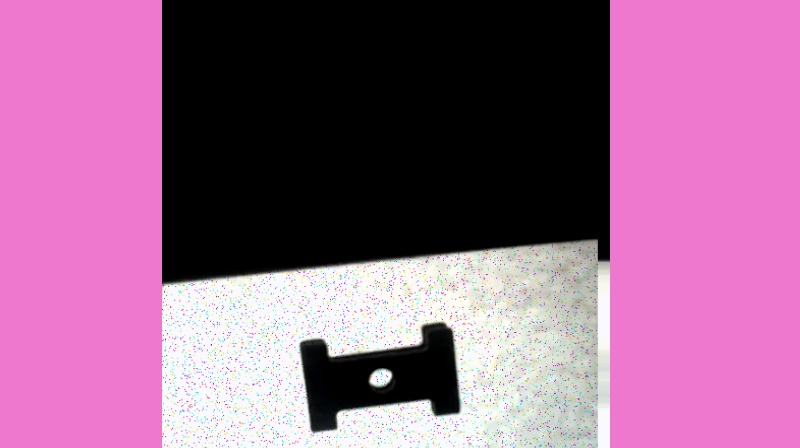O002: (295, 321, 463, 437)
